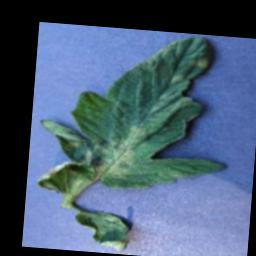Leaf_Mold: (92, 122, 146, 182)
